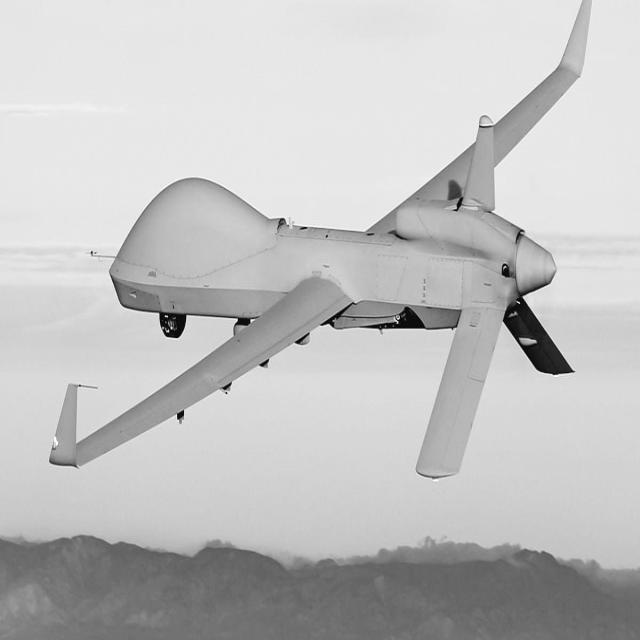iha: (1, 0, 591, 479)
